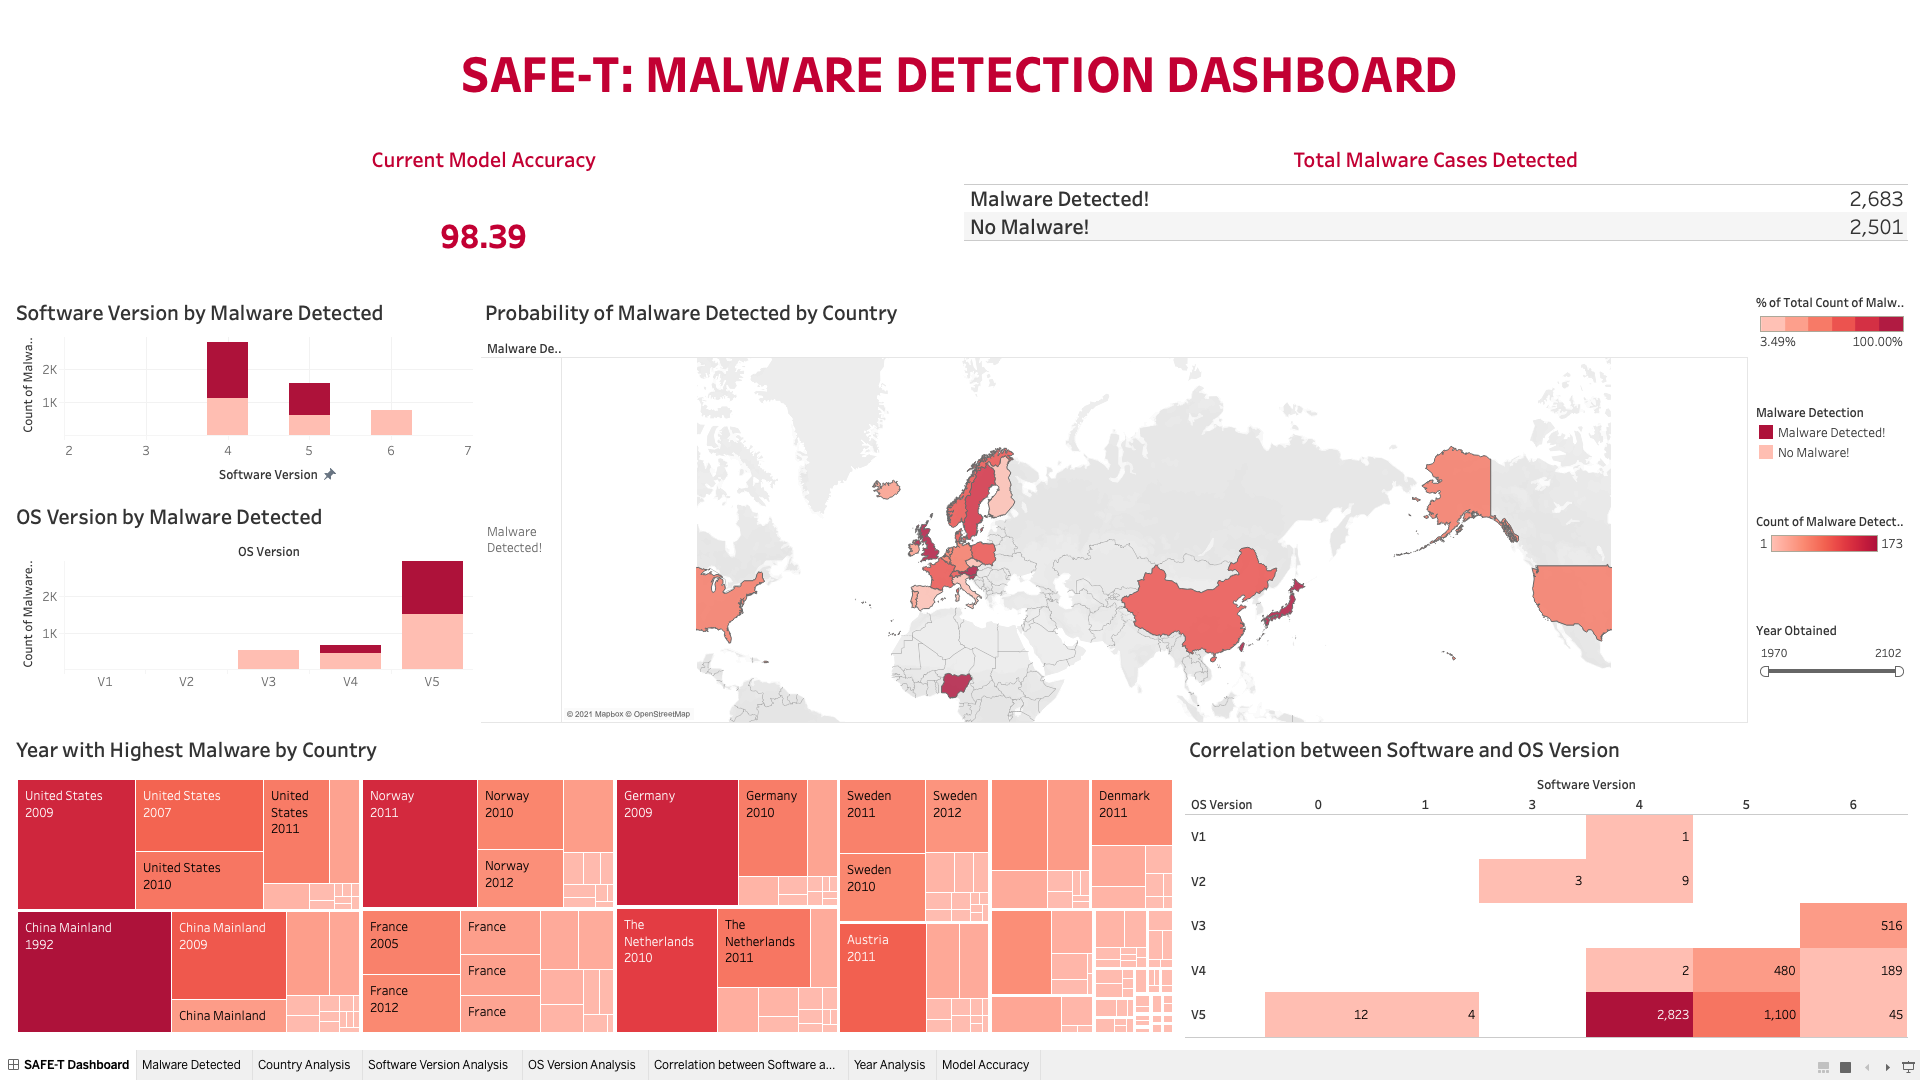

What the dashboard file says about the page in this screenshot:
{"tool":"tableau","page":{"name":"SAFE-T Dashboard","canvas":[1000,1000],"units":"permille","ordinal":0},"visuals":[{"type":"worksheet","box":[0,0,1000,1000]},{"type":"worksheet","param":"vert","box":[4.7,8.1,990.6,983.8]},{"type":"worksheet","box":[4.7,8.1,990.6,983.8]},{"type":"worksheet","box":[4.7,8.1,990.6,123.2]},{"type":"worksheet","title":"Model Accuracy","mark":"Automatic","box":[4.7,131.3,495.3,145.3]},{"type":"worksheet","title":"Malware Detected","mark":"Automatic","rows":["MalwareDetection"],"box":[500,131.3,495.3,145.3]},{"type":"worksheet","title":"Country Analysis","mark":"Automatic","rows":["MalwareDetection"],"param":"[federated.0gbgpv21q3j8tv1bcg4ga0i296eo].[pcto:usr:Calculation_68743229051716403","box":[901.7,276.3,93.6,104.2]},{"type":"worksheet","title":"Software Version Analysis","mark":"Bar","rows":["Calculation_687432290517164034"],"cols":["SoftwareVersion"],"box":[4.7,276.6,244.2,194.1]},{"type":"worksheet","param":"horz","box":[248.9,276.6,746.4,415.6]},{"type":"worksheet","box":[248.9,276.6,652.8,415.6]},{"type":"worksheet","title":"Country Analysis","mark":"Automatic","rows":["MalwareDetection"],"box":[248.9,276.6,652.8,415.6]},{"type":"worksheet","param":"vert","box":[901.7,276.6,93.6,415.6]},{"type":"worksheet","title":"Software Version Analysis","mark":"Bar","rows":["Calculation_687432290517164034"],"cols":["SoftwareVersion"],"param":"[federated.0gbgpv21q3j8tv1bcg4ga0i296eo].[none:MalwareDetection:nk]","box":[901.7,380.6,93.6,104.2]},{"type":"worksheet","title":"OS Version Analysis","mark":"Bar","rows":["Calculation_687432290517164034"],"cols":["OSVersion"],"box":[4.7,470.7,244.2,221.5]},{"type":"worksheet","title":"Year Analysis","mark":"Automatic","param":"[federated.0gbgpv21q3j8tv1bcg4ga0i296eo].[usr:Calculation_687432290517164034:qk]","box":[901.7,484.8,93.6,104.2]},{"type":"worksheet","title":"Year Analysis","mark":"Automatic","param":"[federated.0gbgpv21q3j8tv1bcg4ga0i296eo].[none:YearObtained:qk]","box":[901.7,589.1,93.6,103.2]},{"type":"worksheet","title":"Year Analysis","mark":"Automatic","box":[4.7,692.1,610.2,299.8]},{"type":"worksheet","title":"Correlation between Software and OS Version","mark":"Square","rows":["OSVersion"],"cols":["SoftwareVersion"],"box":[614.9,692.1,380.4,299.8]}]}

Visuals, with their boxes on the dashboard's canvas, which has no fixed pixel size, in thousandths of its width and height (x1, y1, x2, y2). These are canvas units, not pixel positions in the 1920x1080 screenshot, which may show the page scaled, cropped or inside an application window:
worksheet: pyautogui.locateOnScreen(0, 0, 1000, 1000)
worksheet: pyautogui.locateOnScreen(5, 8, 995, 992)
worksheet: pyautogui.locateOnScreen(5, 8, 995, 992)
worksheet: pyautogui.locateOnScreen(5, 8, 995, 131)
"Model Accuracy" worksheet: pyautogui.locateOnScreen(5, 131, 500, 277)
"Malware Detected" worksheet: pyautogui.locateOnScreen(500, 131, 995, 277)
"Country Analysis" worksheet: pyautogui.locateOnScreen(902, 276, 995, 380)
"Software Version Analysis" worksheet (Bar marks): pyautogui.locateOnScreen(5, 277, 249, 471)
worksheet: pyautogui.locateOnScreen(249, 277, 995, 692)
worksheet: pyautogui.locateOnScreen(249, 277, 902, 692)
"Country Analysis" worksheet: pyautogui.locateOnScreen(249, 277, 902, 692)
worksheet: pyautogui.locateOnScreen(902, 277, 995, 692)
"Software Version Analysis" worksheet (Bar marks): pyautogui.locateOnScreen(902, 381, 995, 485)
"OS Version Analysis" worksheet (Bar marks): pyautogui.locateOnScreen(5, 471, 249, 692)
"Year Analysis" worksheet: pyautogui.locateOnScreen(902, 485, 995, 589)
"Year Analysis" worksheet: pyautogui.locateOnScreen(902, 589, 995, 692)
"Year Analysis" worksheet: pyautogui.locateOnScreen(5, 692, 615, 992)
"Correlation between Software and OS Version" worksheet (Square marks): pyautogui.locateOnScreen(615, 692, 995, 992)
